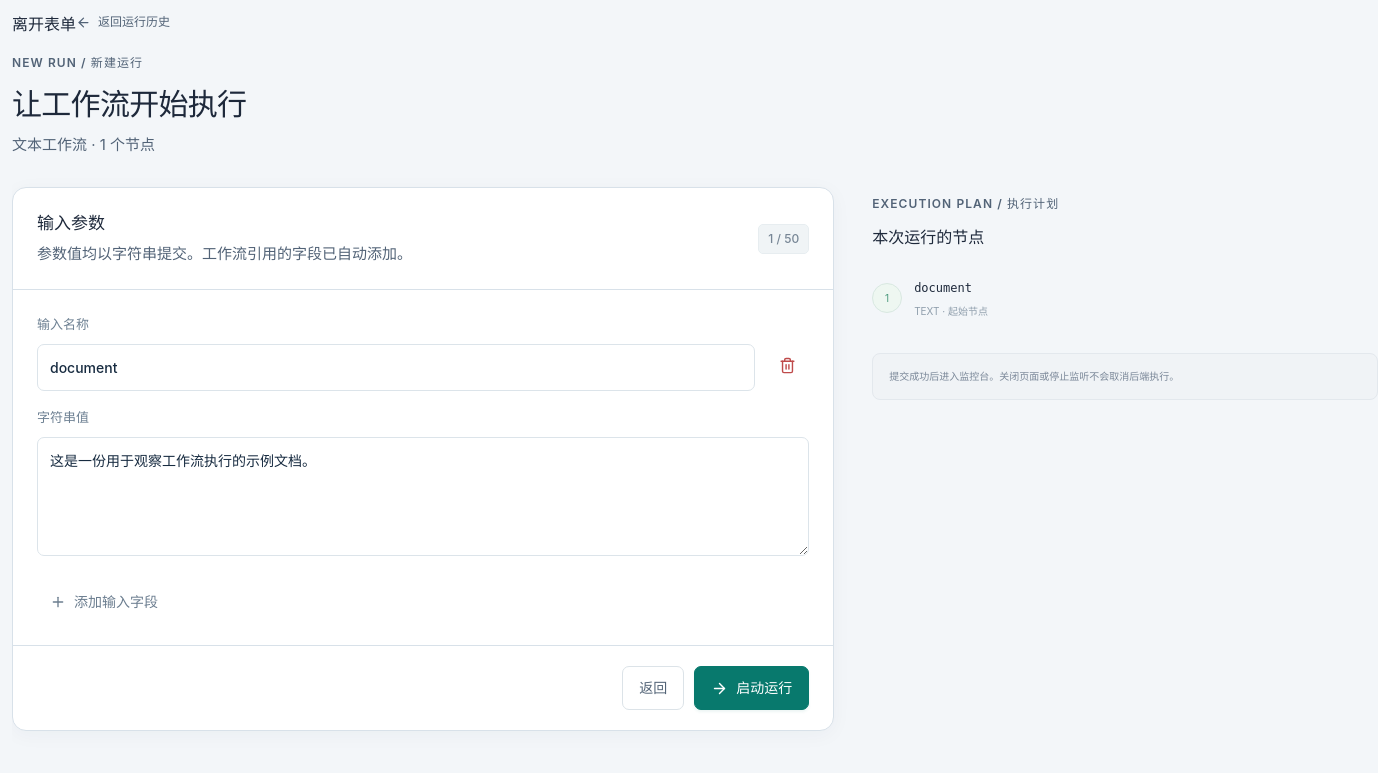
Test case: 新运行交互 › 后台刷新失败保留已编辑输入，重试获取工作流后继续使用同一表单
The width and height of the screenshot is (1378, 773).
Replace the text in the text box named "输入值 1" with "尚未提交的编辑内容" at x=423, y=496, box [37,437,809,556]
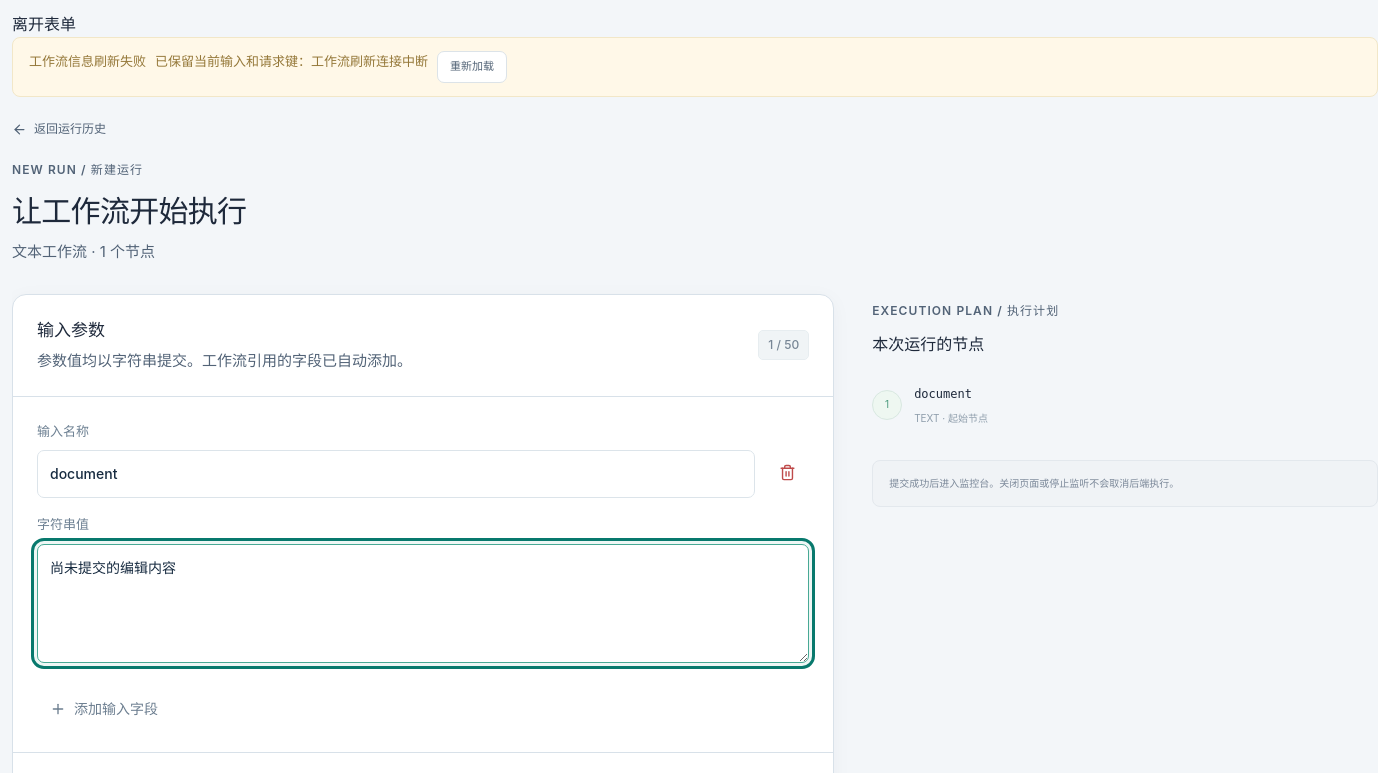
Check: the text "已保留当前输入和请求键：工作流刷新连接中断" is shown, box [155,51,428,72]
Check: the message shows "工作流刷新连接中断", box [311,53,428,69]
Click the button "重新加载" at x=472, y=67, box [437,51,507,83]
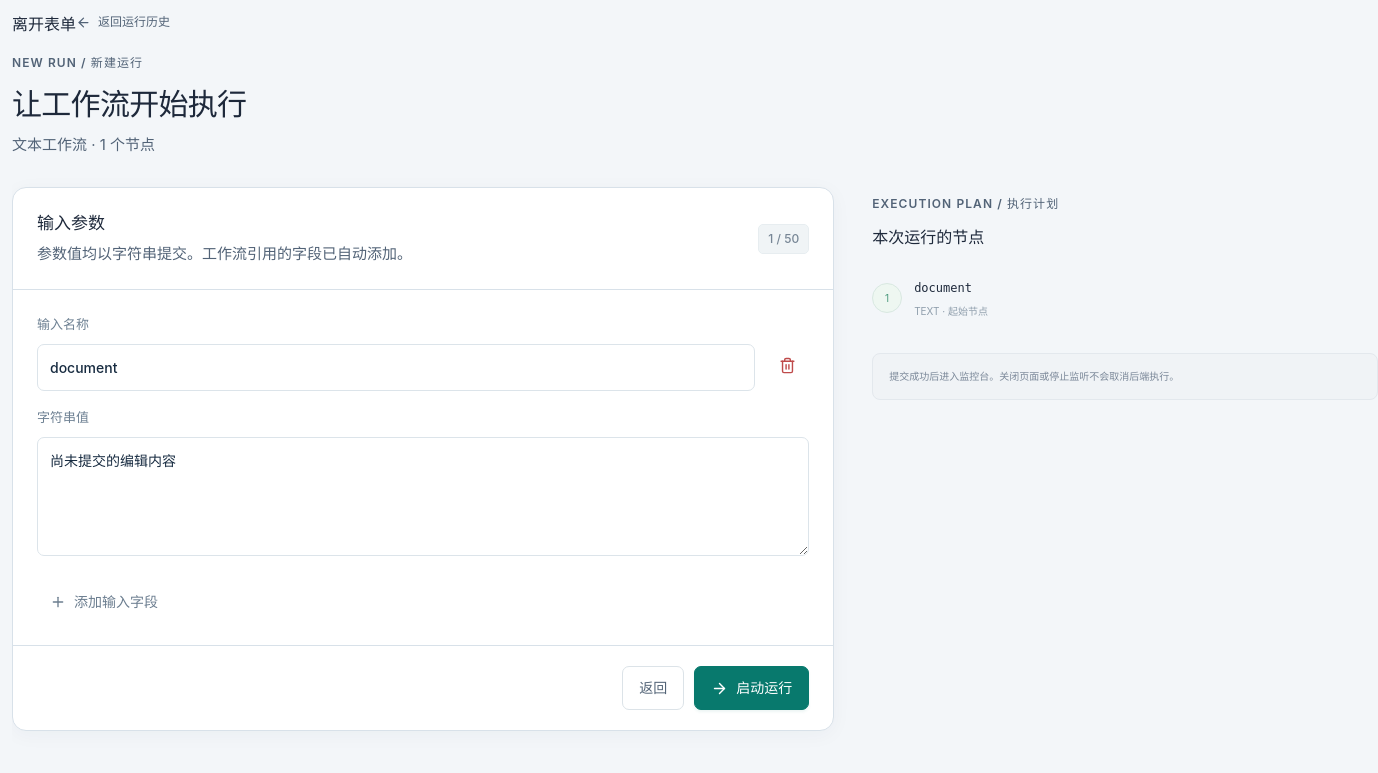
Check: the text "工作流刷新连接中断" is gone
